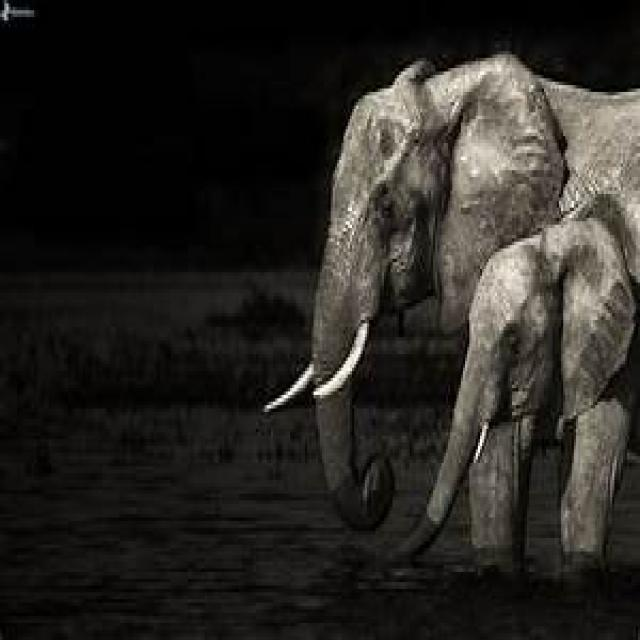elephant: (267, 54, 640, 534), (401, 187, 640, 586)
